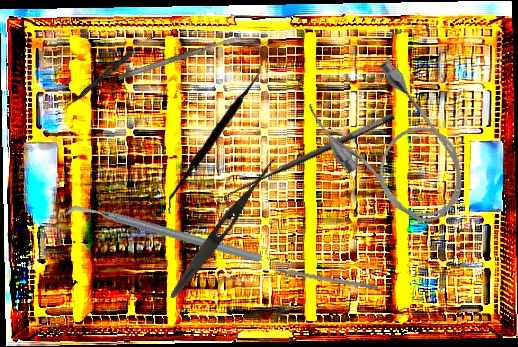Cannula: (299, 48, 487, 247)
Chopper: (61, 140, 264, 330)
Dressing Forceps: (165, 152, 281, 303)
Hook Surgical: (218, 110, 402, 214), (256, 263, 379, 291)
Spatula Surgical: (168, 56, 264, 218), (62, 33, 153, 113), (117, 34, 242, 81)
